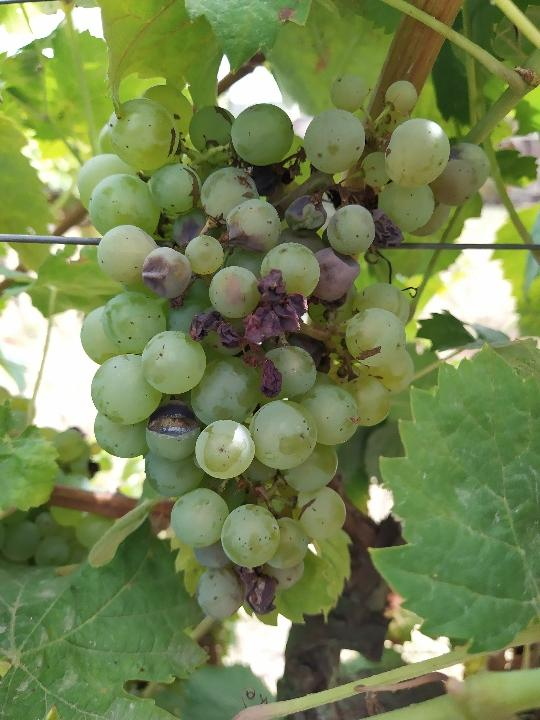grape: (72, 70, 494, 624)
